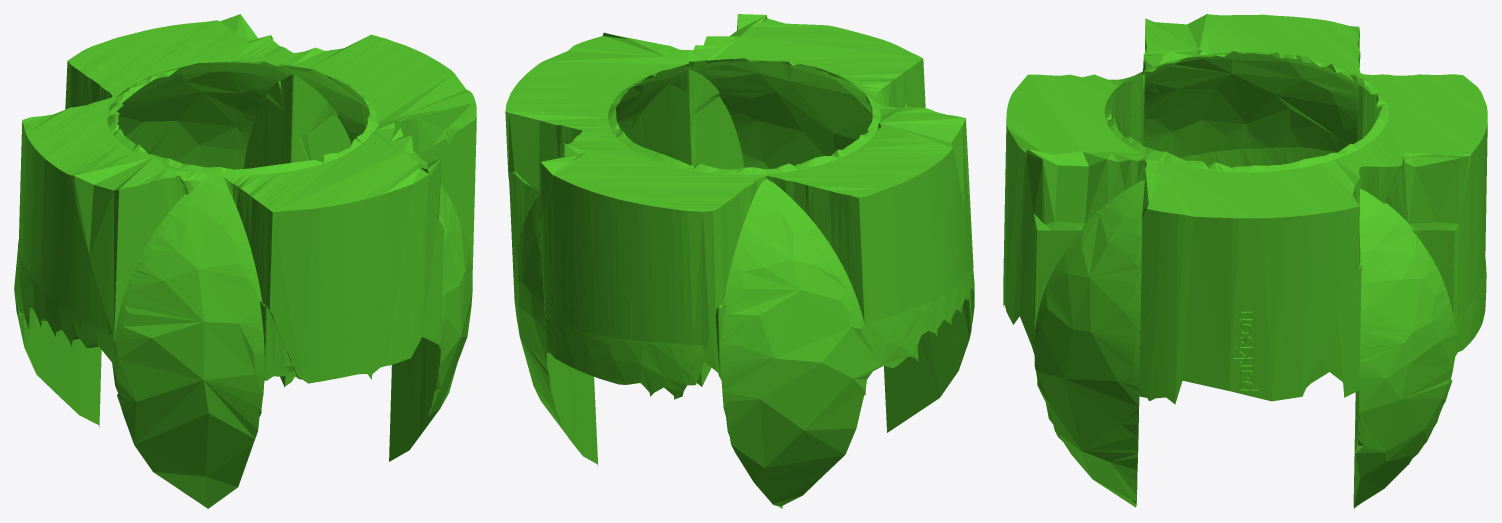
File: parkinson.obj
The picture shows the model from 3 angles, left to right: view 1: azimuth 30°, elevation 25°; view 2: azimuth 150°, elevation 25°; view 3: azimuth 270°, elevation 25°; orthographic projection. The views are drawn at different scales.
Parts seen in each view (by area): view 1: Object.1; view 2: Object.1; view 3: Object.1.
Boxes of the visible parts, box(x1,y1,x2,y2) form: Object.1: box(14, 14, 476, 508); Object.1: box(505, 14, 974, 508); Object.1: box(1003, 14, 1487, 508).
Size of the model in its own units: 40.71 by 32.54 by 40.22.
